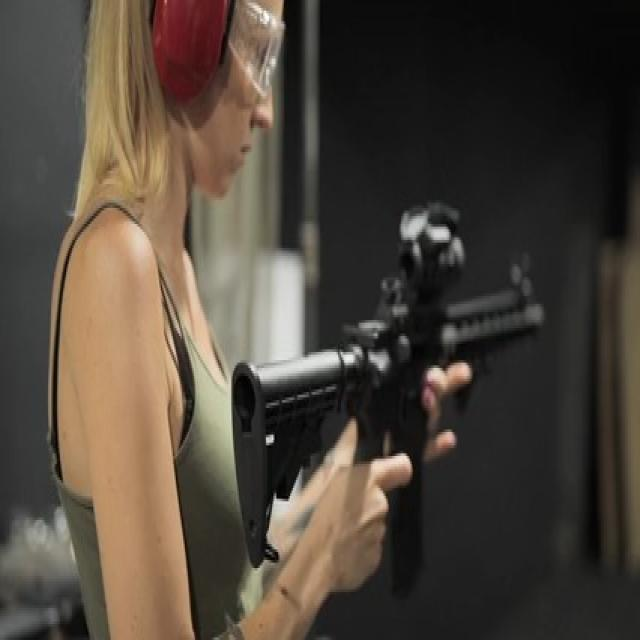Gun_Holder: (198, 192, 586, 640)
Person: (41, 0, 403, 640)
